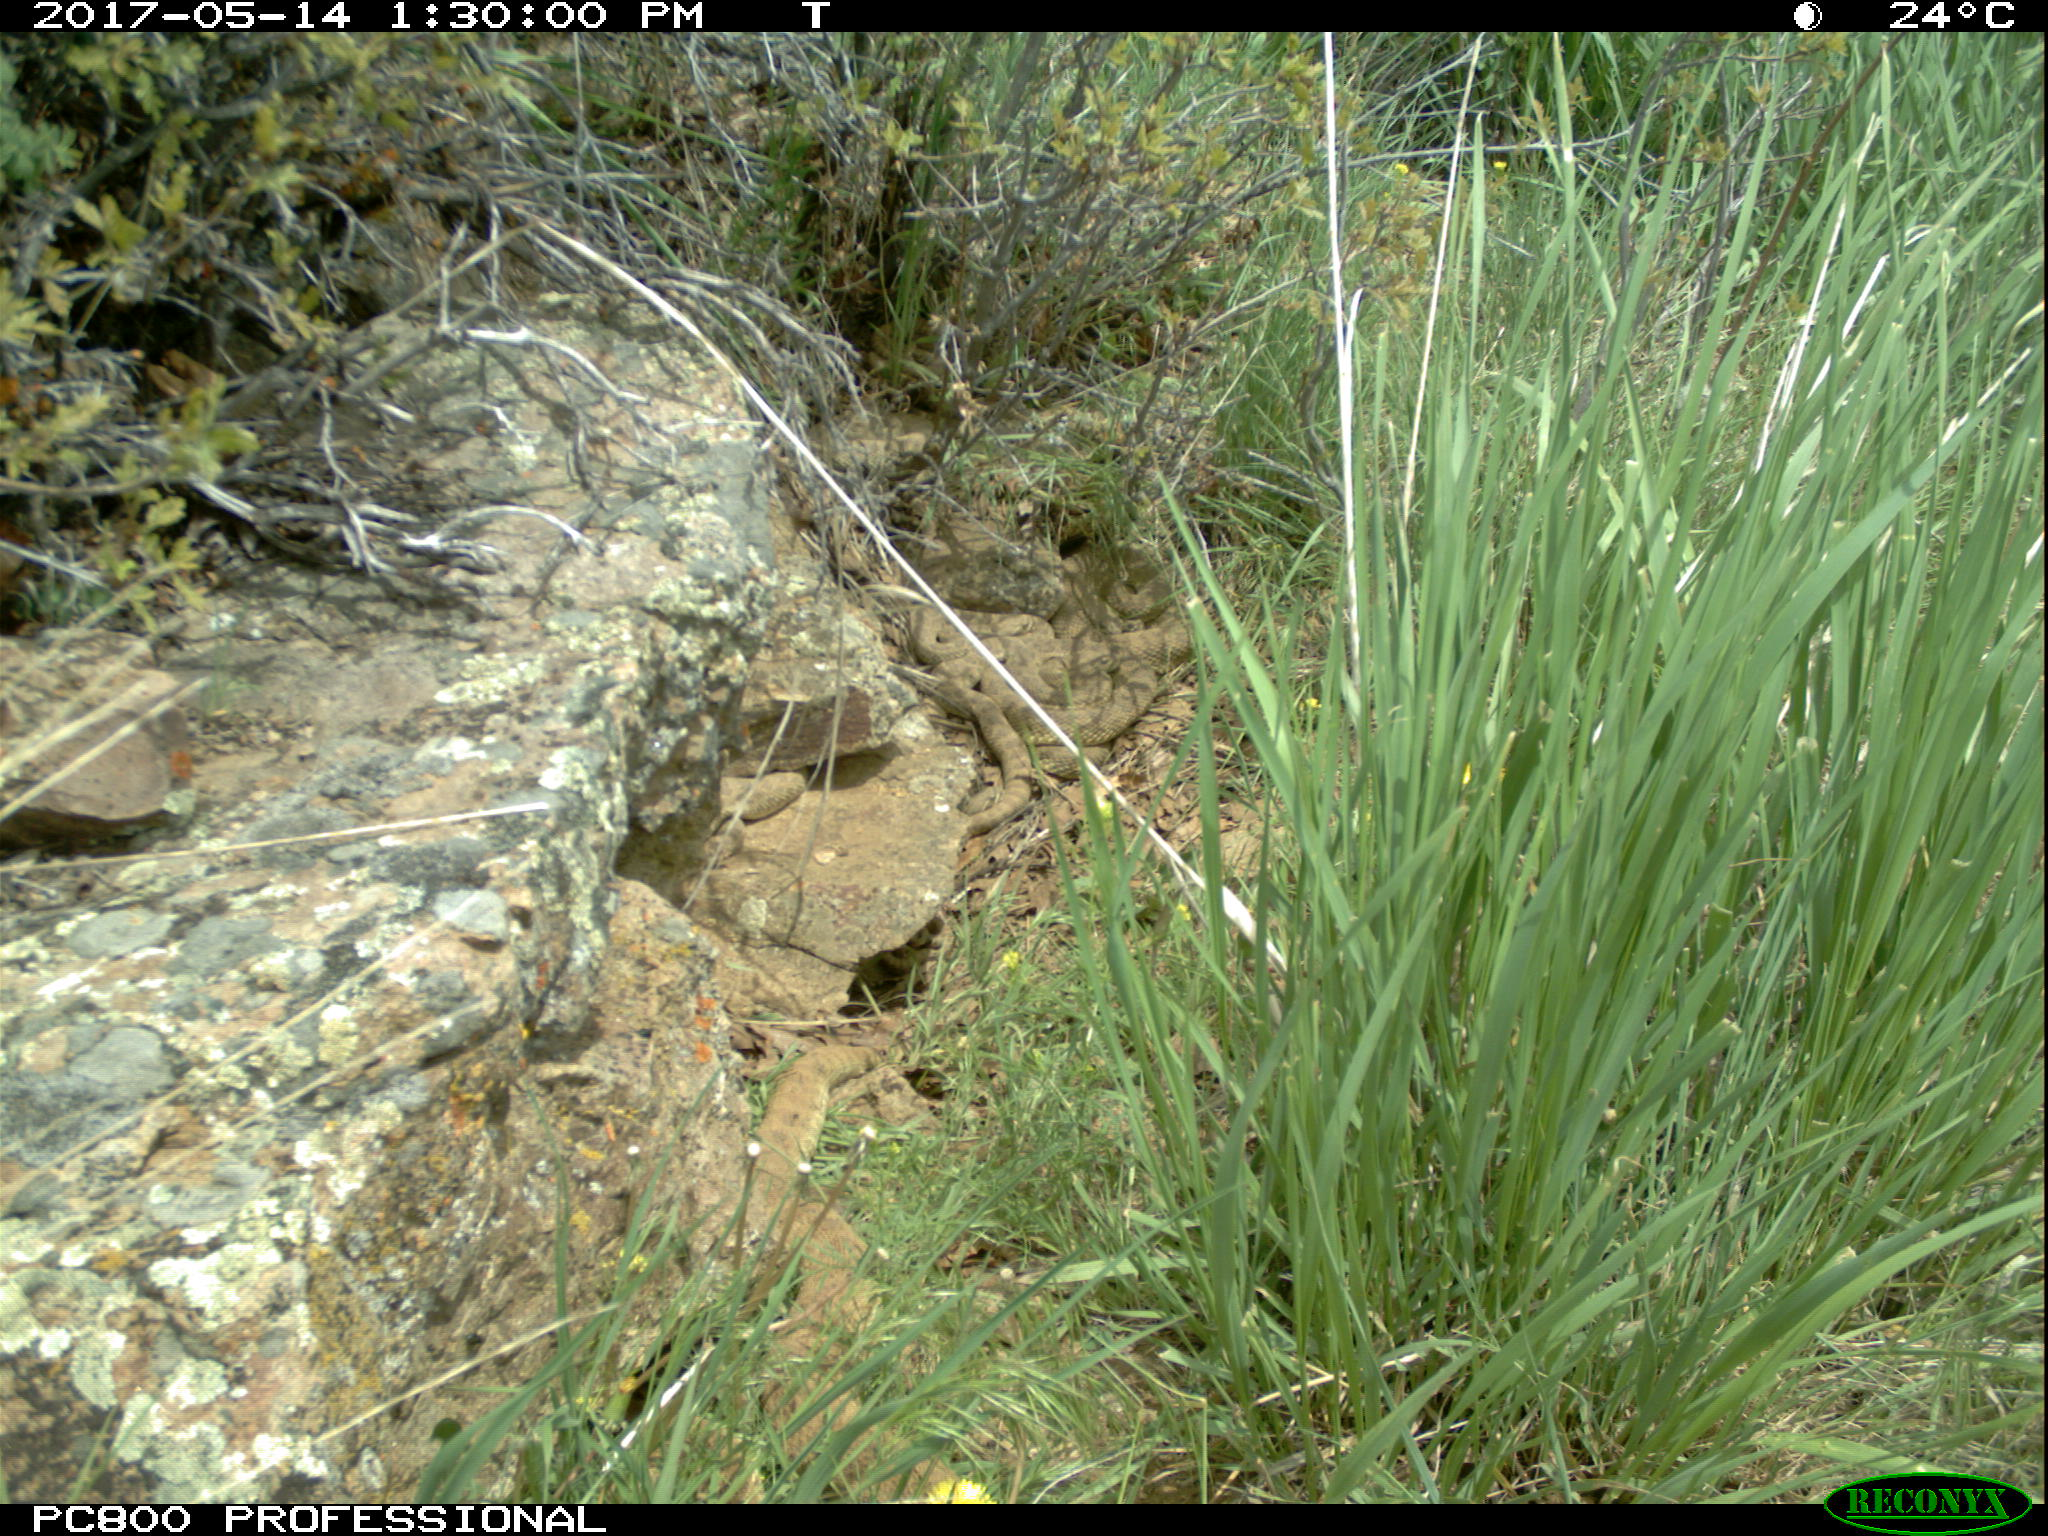snake: (748, 1031, 871, 1467), (1006, 584, 1142, 739), (1056, 544, 1200, 679), (939, 657, 1034, 833), (900, 597, 1051, 663), (713, 765, 806, 829)
